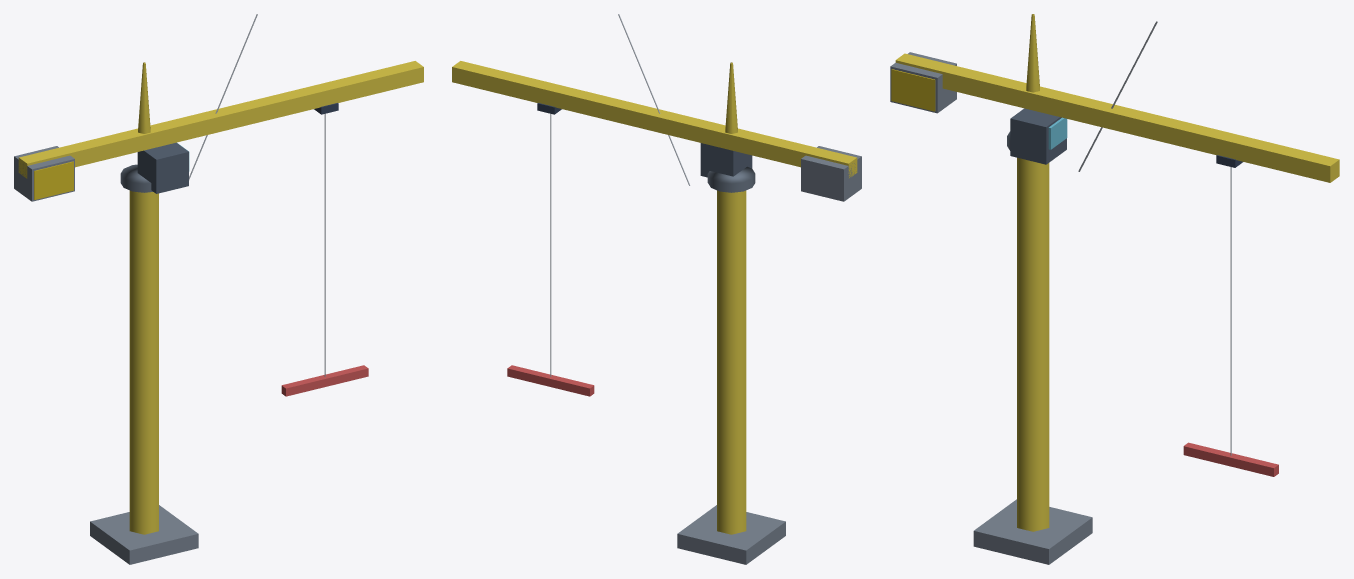
Rendered from construction-crane.glb.
The picture shows the model from 3 angles, left to right: view 1: azimuth 30°, elevation 25°; view 2: azimuth 150°, elevation 25°; view 3: azimuth 330°, elevation 25°; orthographic projection. The views are drawn at different scales.
Visible parts, largest first — view 1: Root; view 2: Root; view 3: Root.
Boxes of the visible parts, bbox=[...] form: Root: bbox=[14, 14, 423, 564]; Root: bbox=[452, 14, 861, 564]; Root: bbox=[890, 14, 1339, 564].
Size of the model in its own units: 23.05 by 27.79 by 4.
